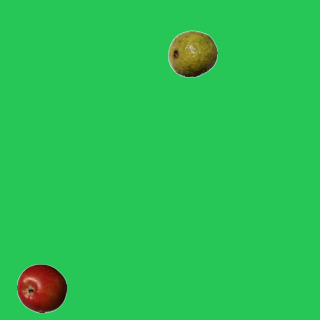Apple Braeburn: (16, 263, 66, 313)
Guava: (167, 28, 217, 78)
